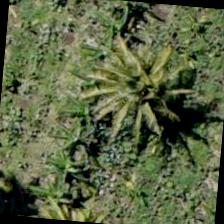Kelapa_Sawit: (92, 48, 190, 146)
